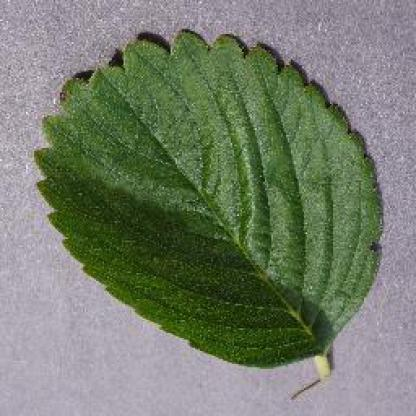healthy: (25, 19, 392, 403)
